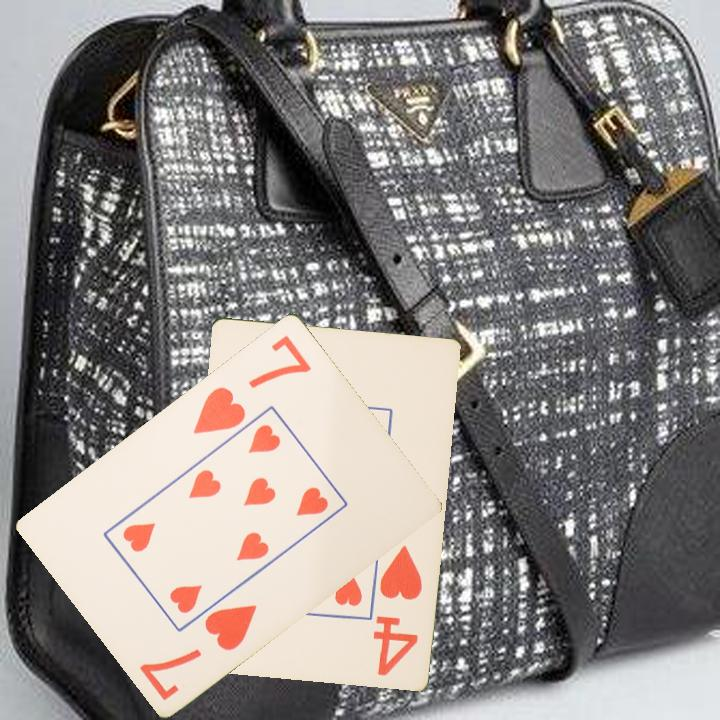4h: (371, 541, 425, 678)
7h: (189, 330, 315, 437), (136, 600, 260, 703)
